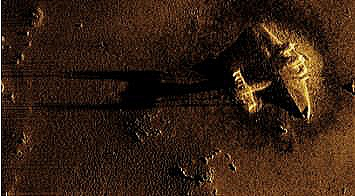aircraft: (229, 20, 323, 124)
